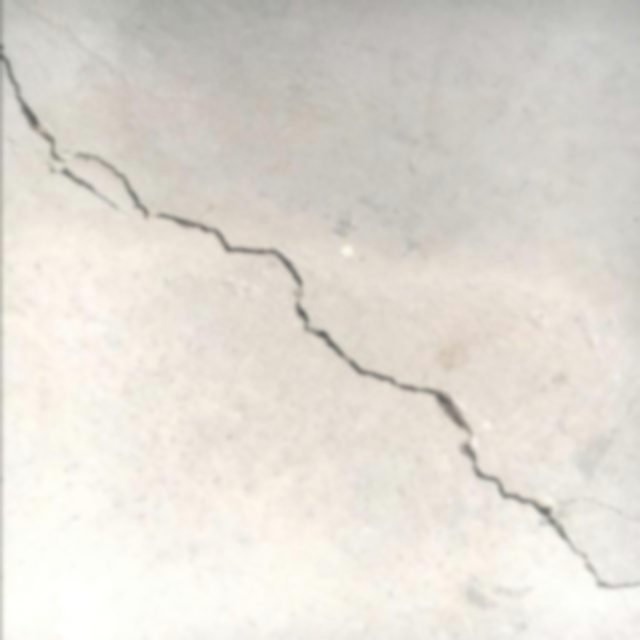SurfaceCrack: (0, 2, 639, 638)
